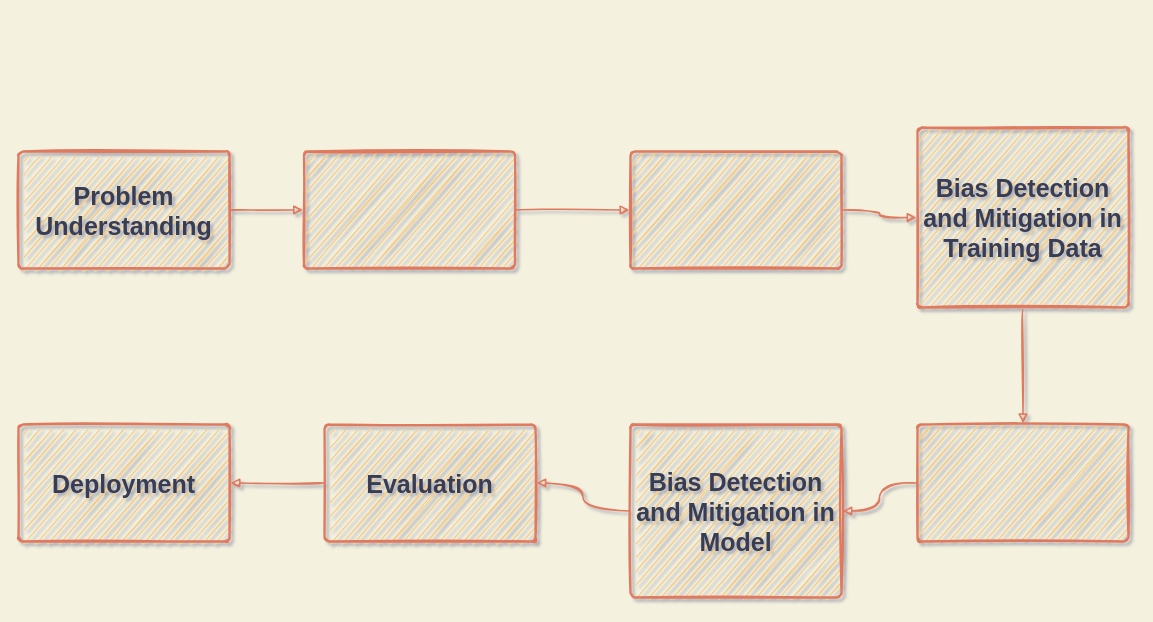
The diagram is 1153 pixels wide and 622 high, and some of its shapes have lost their labels. Each missing label, with the box of its shape:
Data Collection: (302, 150, 516, 269)
Exploratory Data Analysis: (629, 150, 842, 269)
Modelling: (916, 423, 1129, 542)
